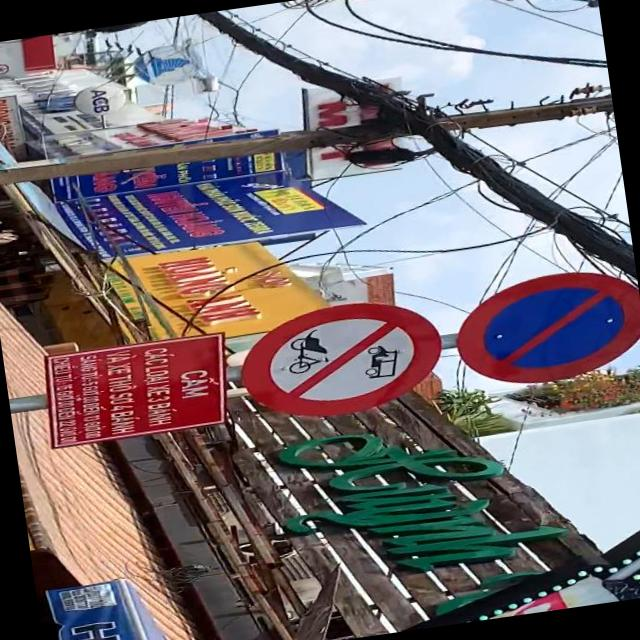P-131a: (450, 264, 640, 393)
